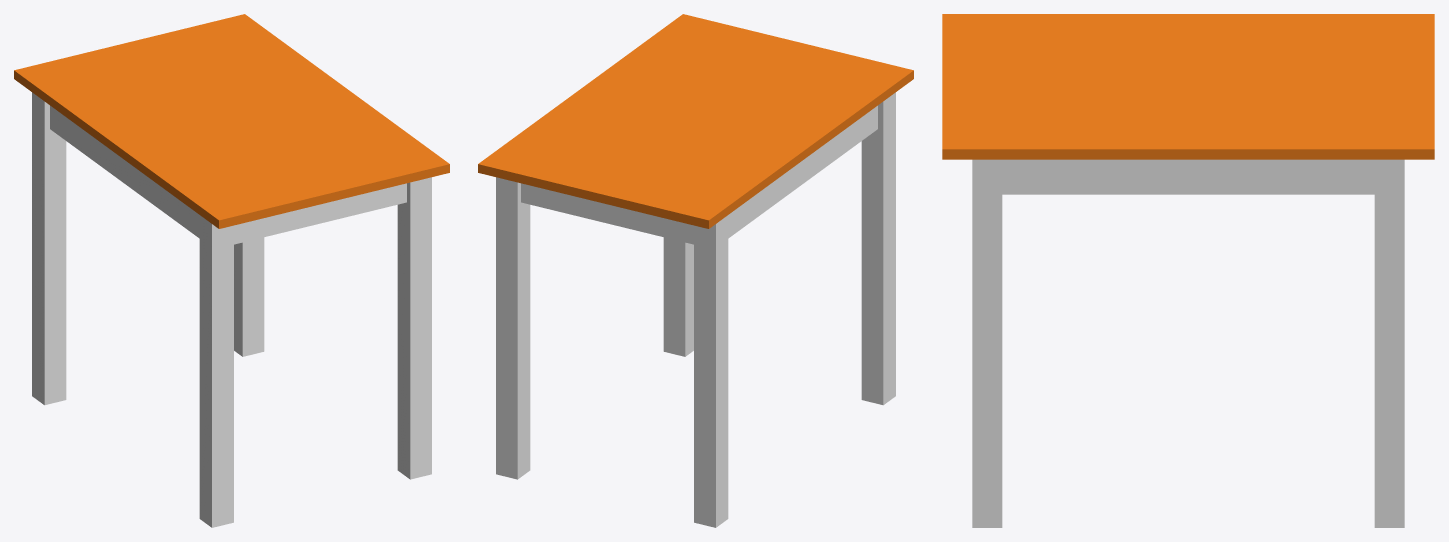
File: Table_Simple.FBX
3 renders of one model, left to right at view 1: azimuth 30°, elevation 25°; view 2: azimuth 150°, elevation 25°; view 3: azimuth 270°, elevation 25°, orthographic. The views are drawn at different scales.
Visible parts, largest first — view 1: Table_Simple; view 2: Table_Simple; view 3: Table_Simple.
Part boxes in pixels (x1,y1,x2,y2): Table_Simple: [14, 14, 449, 527]; Table_Simple: [478, 14, 913, 527]; Table_Simple: [942, 14, 1434, 527].
Size of the model in its own units: 0.9122 by 1.2 by 1.4.
